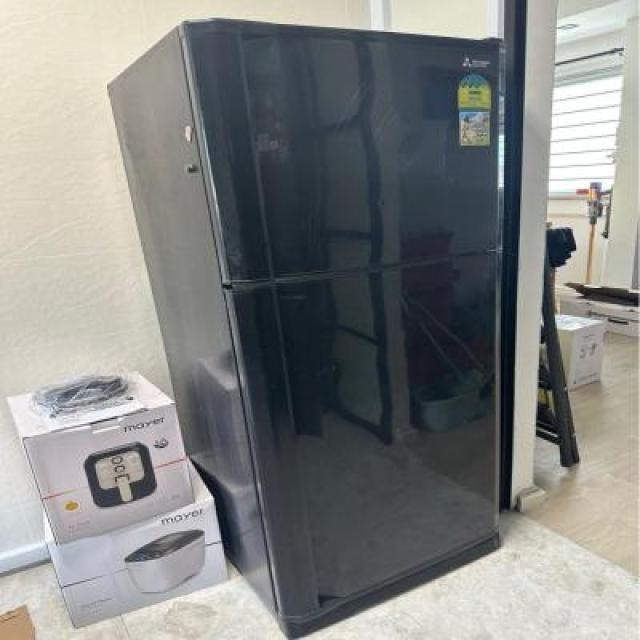refrigerator: (181, 16, 509, 635)
